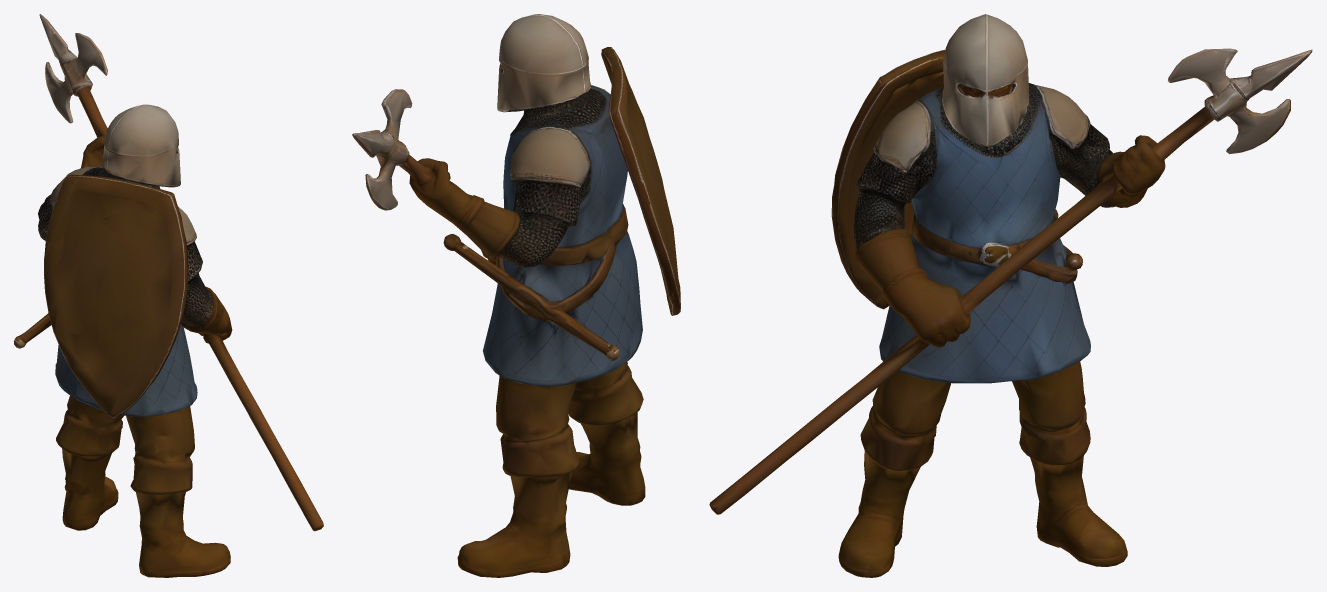
The picture shows the model from 3 angles, left to right: view 1: azimuth 30°, elevation 25°; view 2: azimuth 150°, elevation 25°; view 3: azimuth 270°, elevation 25°; orthographic projection. The views are drawn at different scales.
Visible parts, largest first — view 1: tripo_node_234b8ba8-94d2-4081-a403-89f078dd8c1e; view 2: tripo_node_234b8ba8-94d2-4081-a403-89f078dd8c1e; view 3: tripo_node_234b8ba8-94d2-4081-a403-89f078dd8c1e.
Boxes of the visible parts, x1=… form: tripo_node_234b8ba8-94d2-4081-a403-89f078dd8c1e: x1=14, y1=14, x2=323, y2=577; tripo_node_234b8ba8-94d2-4081-a403-89f078dd8c1e: x1=352, y1=14, x2=680, y2=577; tripo_node_234b8ba8-94d2-4081-a403-89f078dd8c1e: x1=709, y1=14, x2=1312, y2=577.
Bounding box in the file's own units: 0.4107 × 0.9891 × 0.9996.
1 material, 1 textured.
